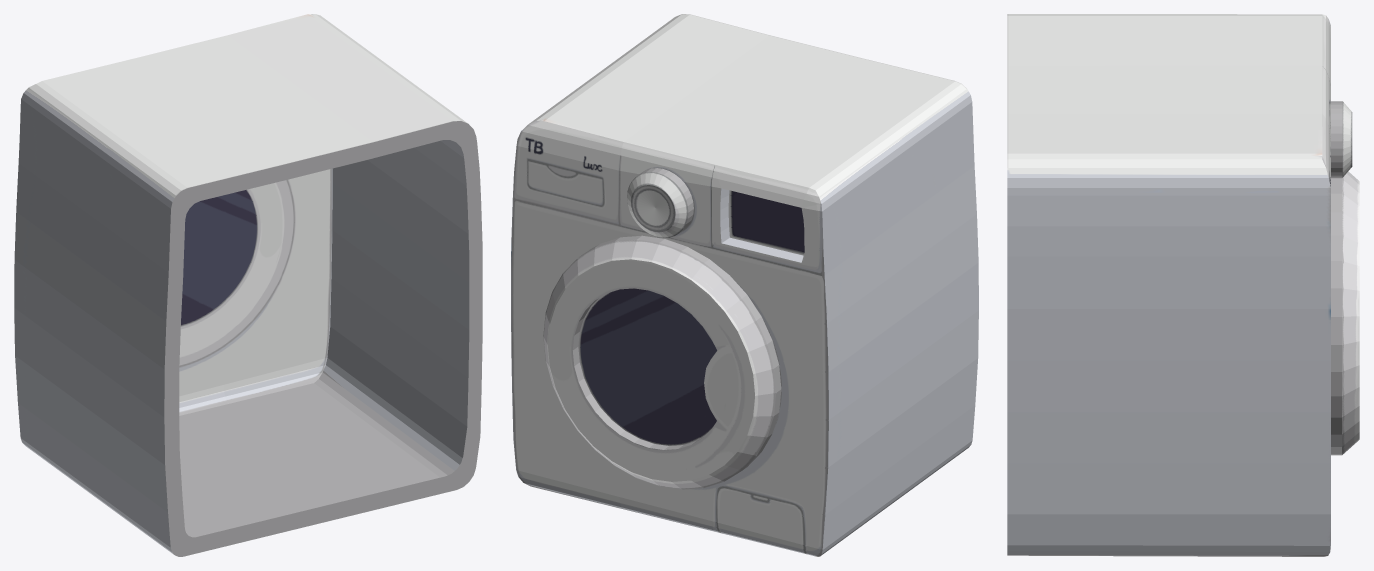
Rendered from WashingMachine.fbx.
The picture shows the model from 3 angles, left to right: view 1: azimuth 30°, elevation 25°; view 2: azimuth 150°, elevation 25°; view 3: azimuth 270°, elevation 25°; orthographic projection. The views are drawn at different scales.
Visible parts, largest first — view 1: WashingMachine; view 2: WashingMachine; view 3: WashingMachine.
Boxes of the visible parts, x1,y1,x2,y2 form: WashingMachine: (14, 14, 482, 556); WashingMachine: (511, 14, 978, 556); WashingMachine: (1007, 14, 1359, 556).
Bounding box in the file's own units: 79.94 × 88.67 × 71.15.
